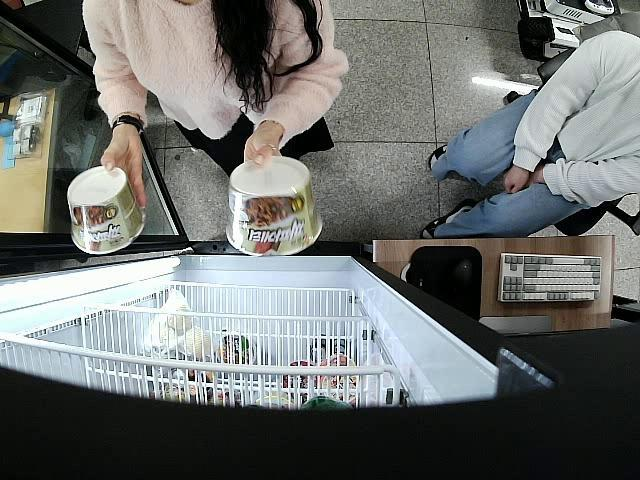03_chapagetti_L: (224, 158, 322, 254), (65, 167, 146, 254)
